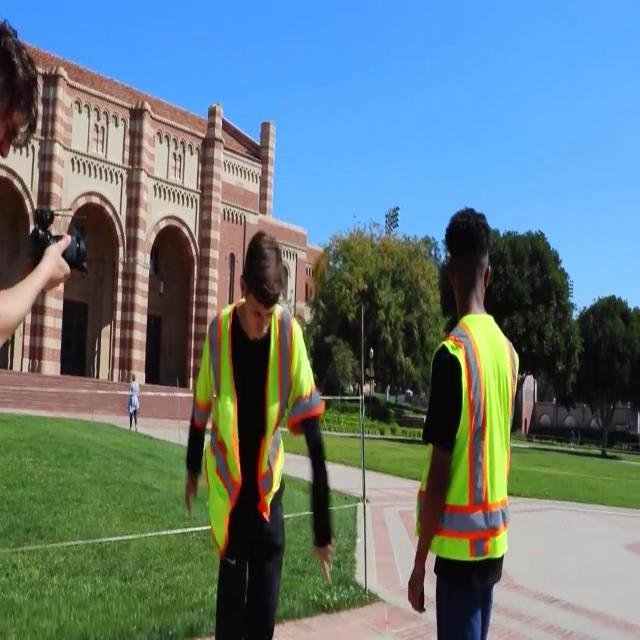Reflective-Jacket: (411, 310, 531, 583), (189, 299, 317, 546)
